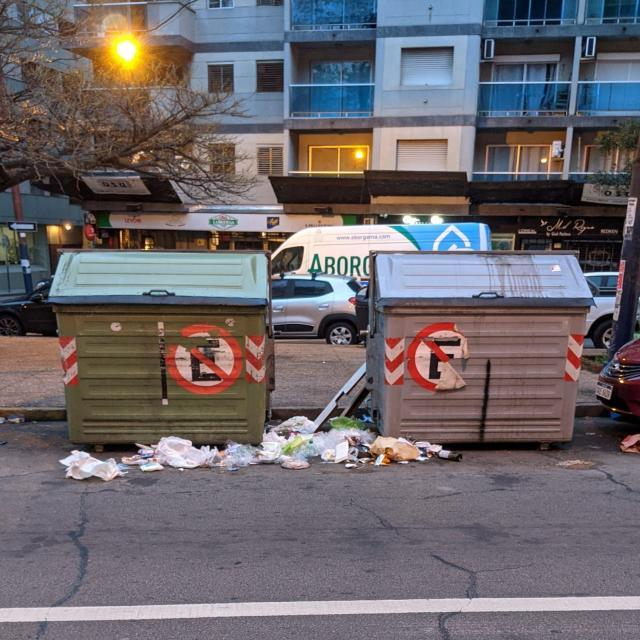garbage: (60, 376, 511, 497)
